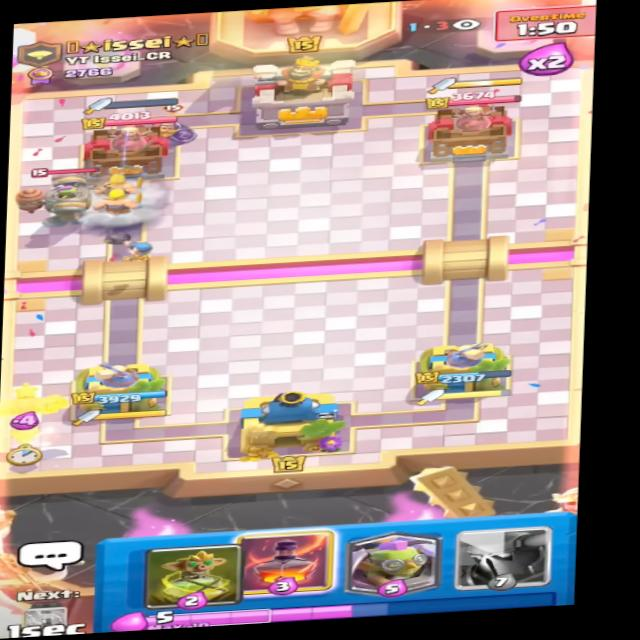evo-knight: (152, 103, 196, 151)
goblin-machine: (12, 159, 134, 225)
